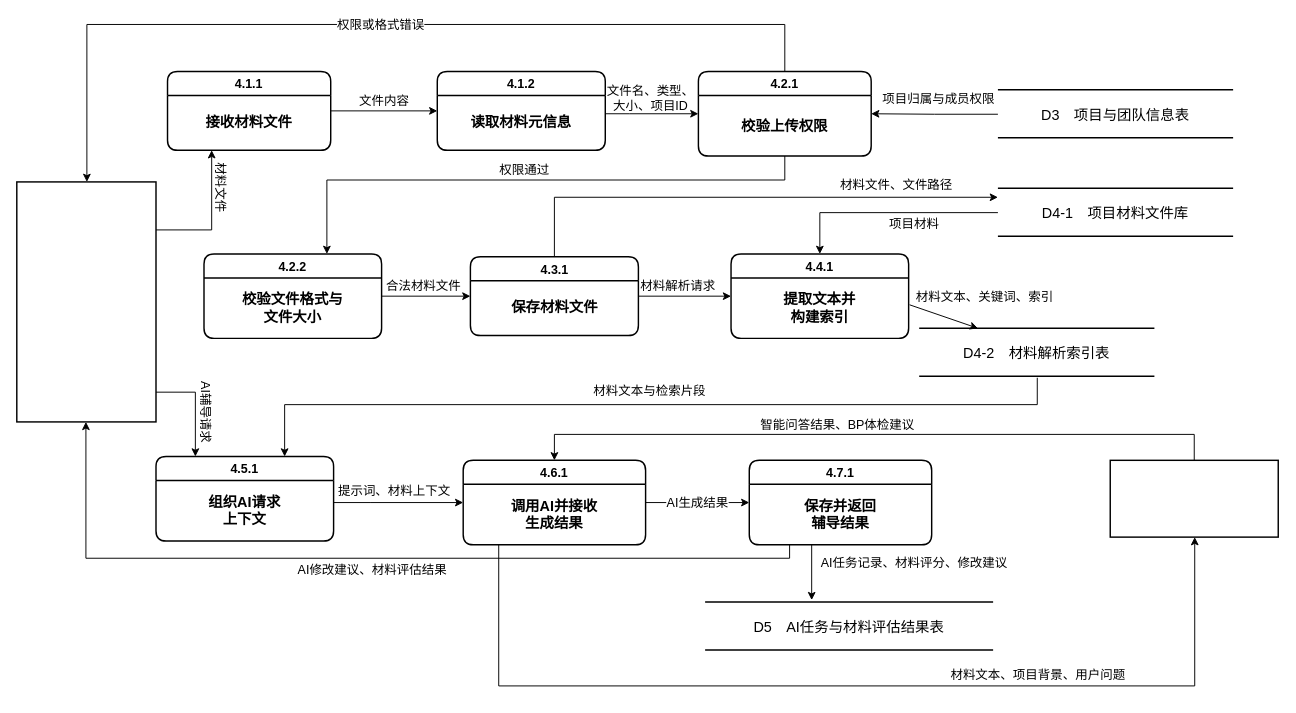
This 1296x713 diagram has some shape labels left out. The shapes that lost their labels are listed below. From the top down, each one's centre as x and y in pixels, then its label:
At point (86, 301): "学生".
At point (1194, 498): "AI大模型服务".
